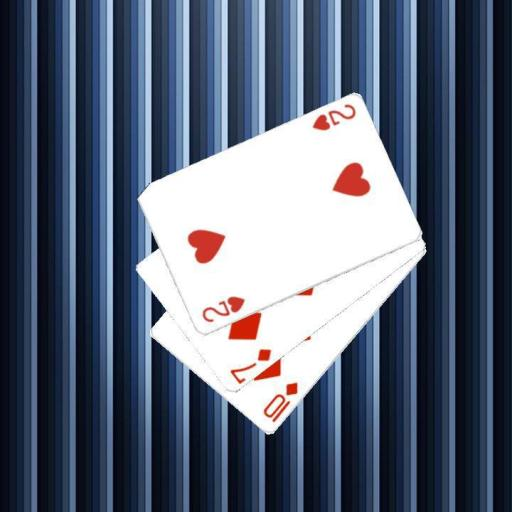card-corner: (260, 379, 300, 425), (226, 346, 273, 384), (308, 101, 358, 133), (198, 293, 247, 324)
